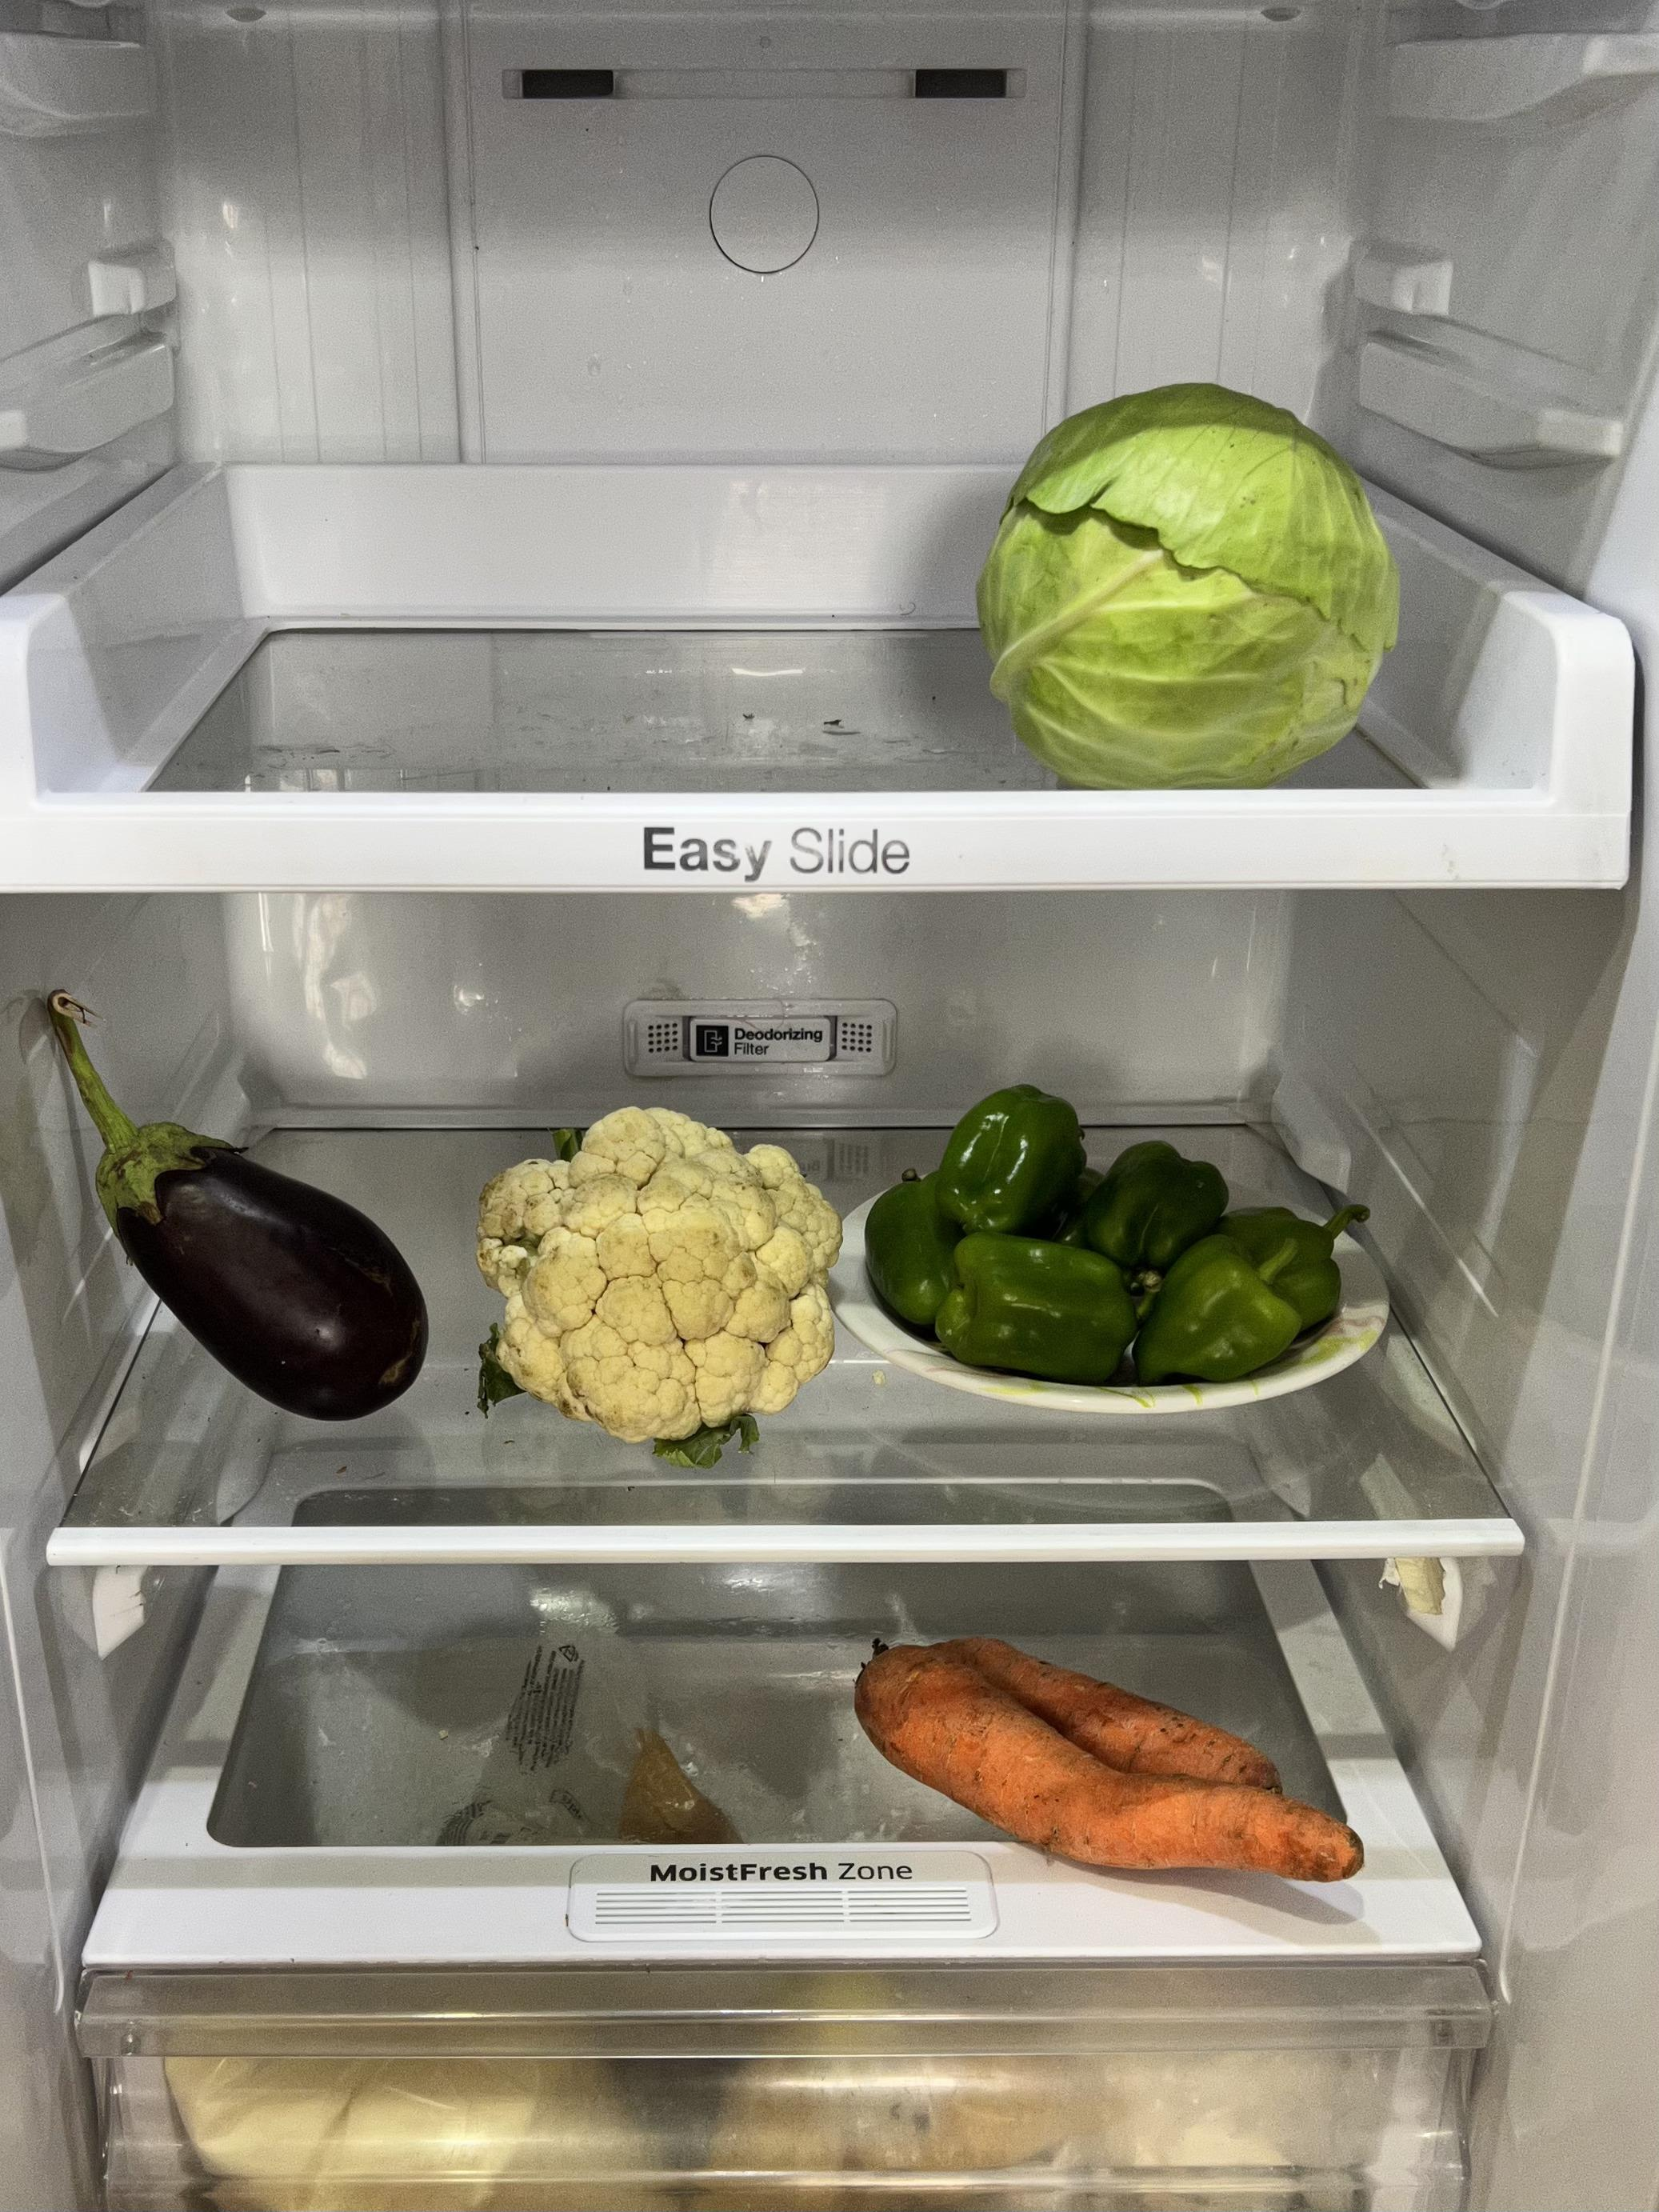bringal: (37, 987, 429, 1424)
cabbage: (986, 375, 1398, 788)
capsicum: (856, 1086, 1370, 1382)
carrots: (856, 1614, 1370, 1891)
cauliflower: (486, 1098, 842, 1433)
